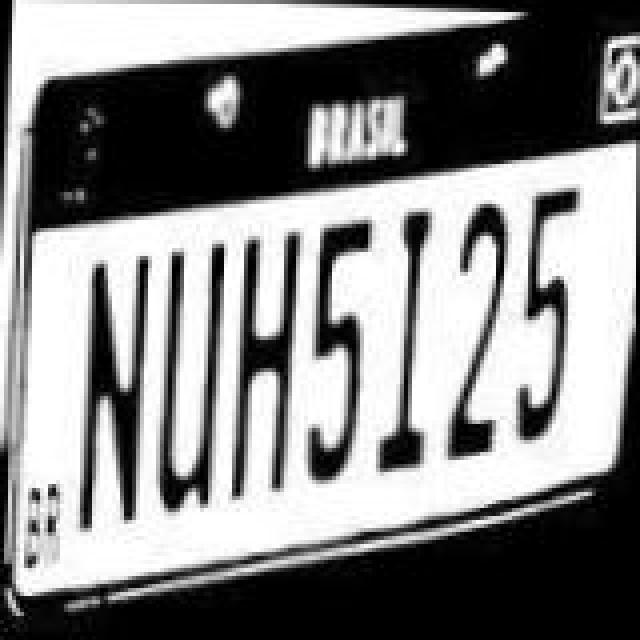2: (434, 180, 518, 468)
5: (300, 198, 380, 486), (510, 172, 586, 444)
H: (222, 214, 310, 506)
I: (368, 188, 448, 480)
N: (74, 242, 162, 554)
U: (146, 226, 234, 530)
